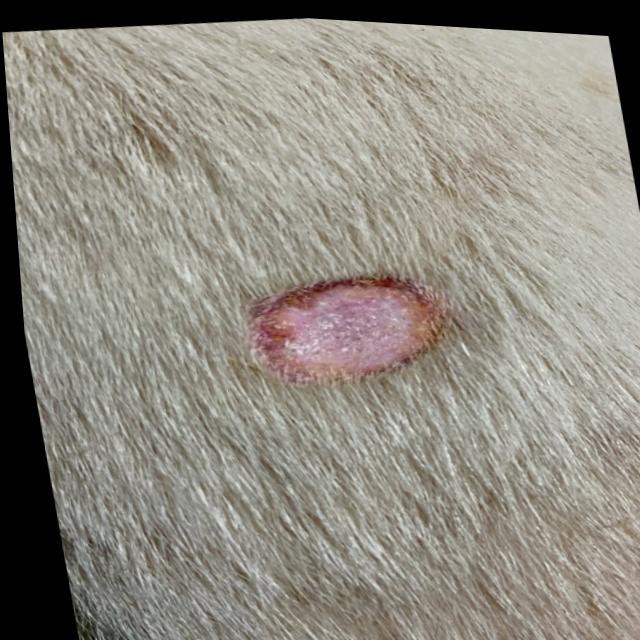ringworm: (201, 246, 468, 407)
